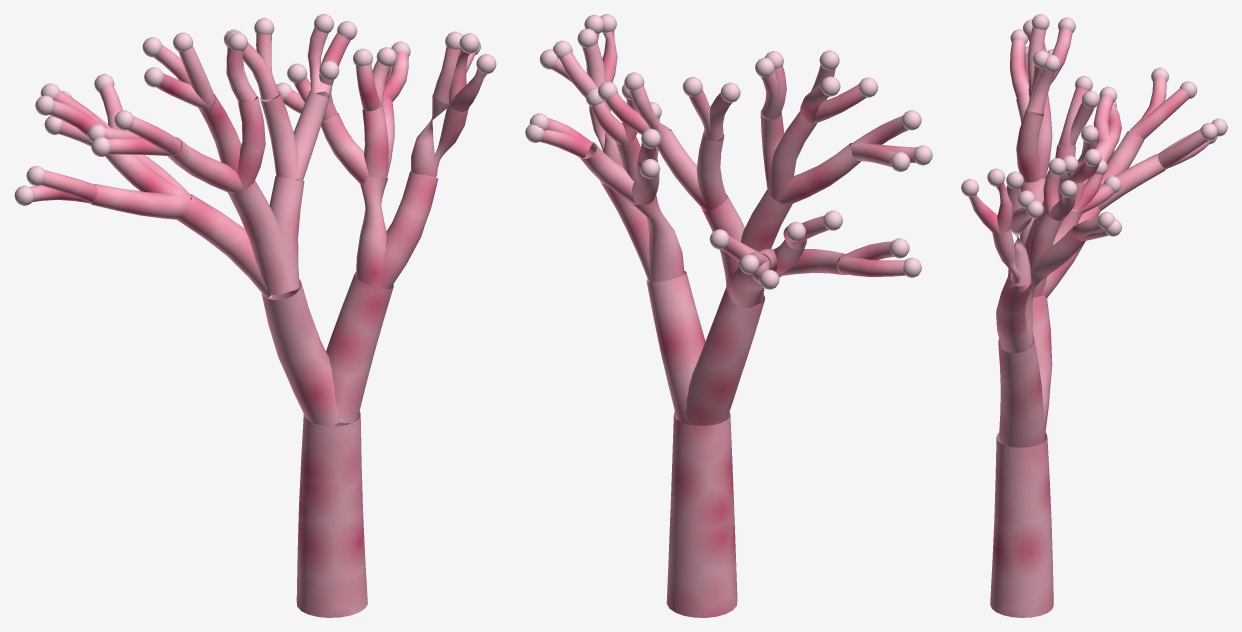
The model's file is d_coral.glb.
The picture shows the model from 3 angles, left to right: view 1: azimuth 30°, elevation 25°; view 2: azimuth 150°, elevation 25°; view 3: azimuth 270°, elevation 25°; orthographic projection. The views are drawn at different scales.
Visible parts, largest first — view 1: coral; view 2: coral; view 3: coral.
Boxes of the visible parts, x1,y1,x2,y2 form: coral: [14, 14, 496, 617]; coral: [525, 14, 932, 617]; coral: [961, 14, 1227, 617].
Bounding box in the file's own units: 0.7023 × 0.9465 × 0.4316.
1 material, 1 textured.
